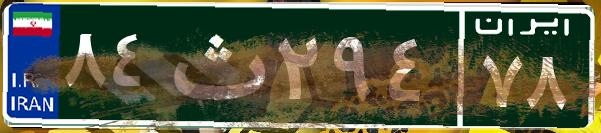2: (273, 28, 330, 110)
4: (385, 28, 445, 110), (110, 28, 158, 105)
7: (475, 38, 525, 113)
8: (57, 26, 110, 107), (525, 38, 570, 115)
9: (330, 28, 385, 110)
ث: (158, 15, 273, 115)
